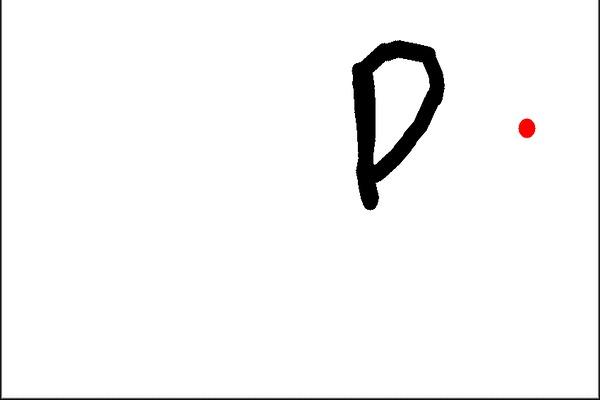D: (348, 35, 449, 212)
